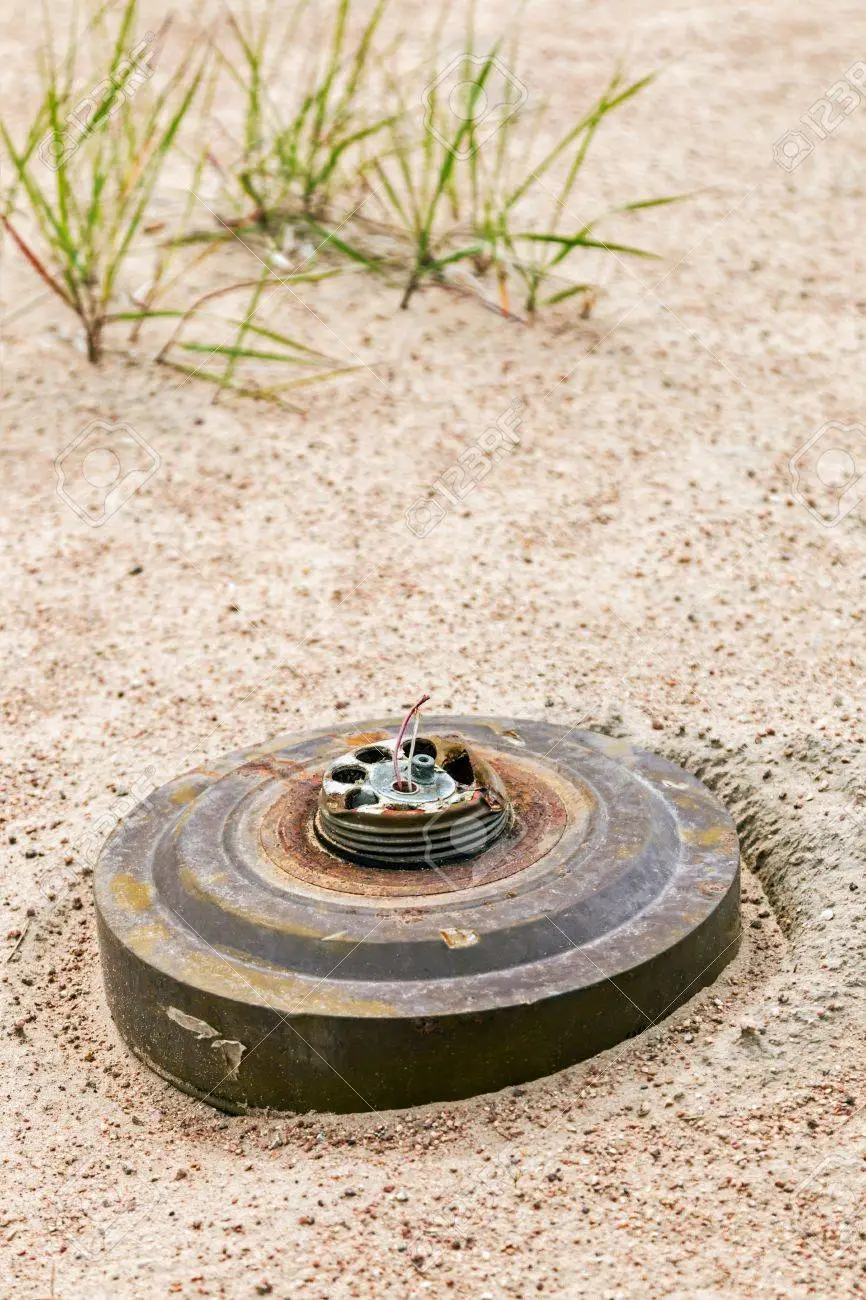car: (83, 654, 791, 1157)
